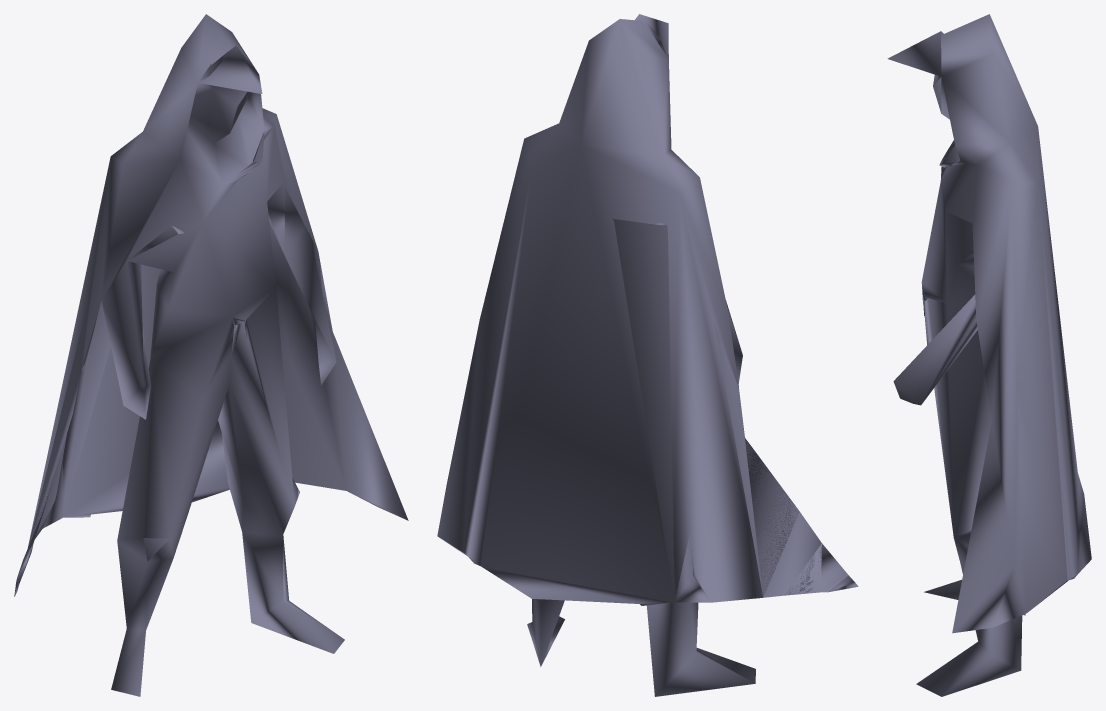
The model's file is pyromancer.glb.
3 renders of one model, left to right at view 1: azimuth 30°, elevation 25°; view 2: azimuth 150°, elevation 25°; view 3: azimuth 270°, elevation 25°, orthographic. The views are drawn at different scales.
Parts seen in each view (by area): view 1: PyromancerV2; view 2: PyromancerV2; view 3: PyromancerV2.
Part boxes in pixels (x1=…): PyromancerV2: x1=14, y1=14, x2=408, y2=696; PyromancerV2: x1=437, y1=14, x2=858, y2=696; PyromancerV2: x1=887, y1=14, x2=1091, y2=696.
Bounding box in the file's own units: 1.24 × 1.9 × 0.5606.
